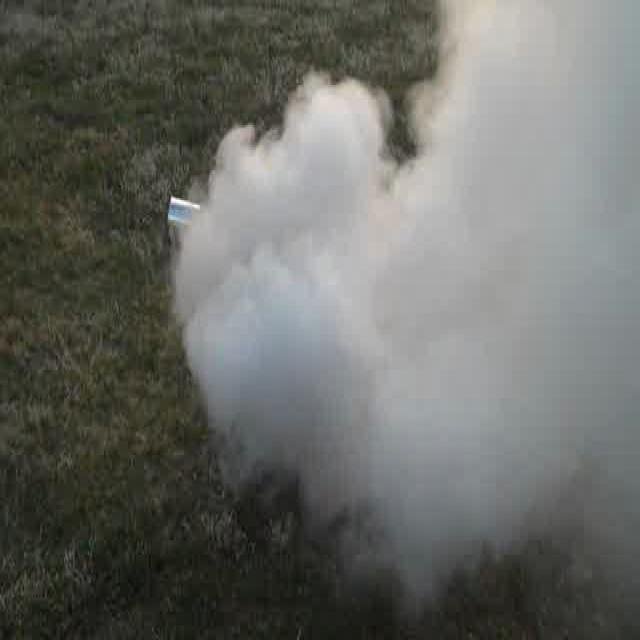Smoke: (189, 1, 636, 524)
